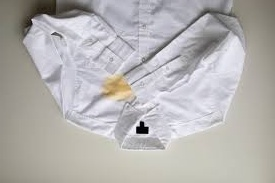coffee: (106, 80, 129, 99)
